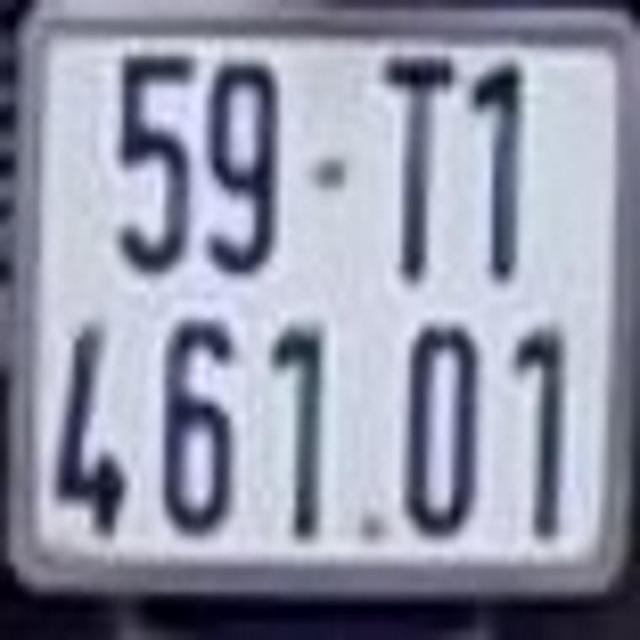0: (404, 302, 480, 540)
1: (260, 307, 336, 544), (507, 314, 580, 545), (468, 56, 535, 280)
4: (52, 314, 126, 545)
5: (116, 42, 198, 277)
6: (155, 308, 239, 538)
9: (204, 55, 279, 278)
T: (376, 49, 458, 280)
